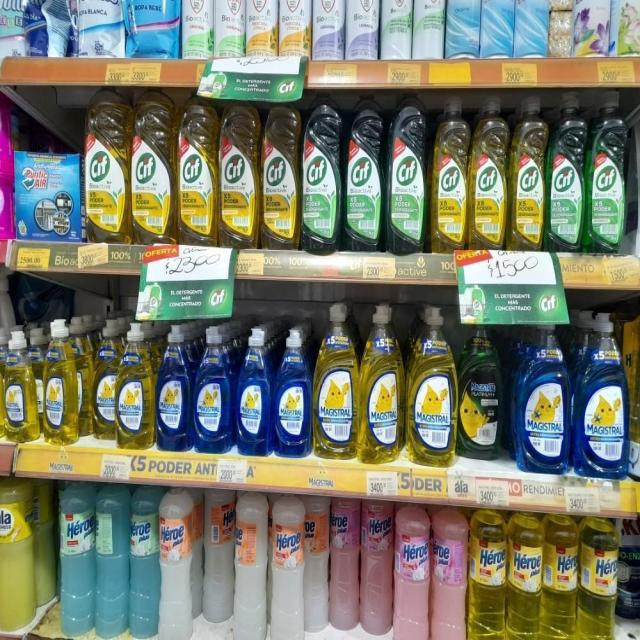ala_crem_amarillo: (0, 475, 37, 633)
cif_conc_bot_amarilla: (84, 90, 128, 245), (131, 94, 174, 244), (469, 96, 508, 250), (177, 95, 217, 245), (219, 99, 259, 249), (261, 98, 300, 250), (431, 95, 468, 252), (510, 95, 546, 251)
cif_conc_botella_verde: (586, 92, 629, 254), (386, 93, 428, 254), (301, 92, 342, 254), (343, 93, 384, 253), (547, 92, 585, 253), (633, 88, 640, 255)
cif_conc_sachet_amarillo: (279, 0, 311, 57), (246, 0, 278, 57)
heroe: (56, 480, 95, 639), (159, 484, 196, 640), (468, 507, 506, 640), (578, 515, 618, 640), (394, 502, 430, 640), (269, 494, 303, 640), (431, 504, 467, 640), (542, 512, 578, 640), (360, 498, 393, 637), (507, 510, 541, 639), (202, 488, 234, 625), (330, 496, 360, 633)
magistral_con_amarillo: (407, 304, 456, 466), (360, 302, 404, 464), (314, 302, 358, 459), (117, 321, 154, 450), (43, 318, 77, 445), (4, 329, 38, 443), (92, 321, 117, 442), (630, 302, 640, 482)
magistral_con_azul: (574, 310, 628, 479), (514, 322, 570, 473), (193, 324, 234, 454), (273, 326, 312, 458), (236, 326, 272, 456), (156, 323, 191, 452)
